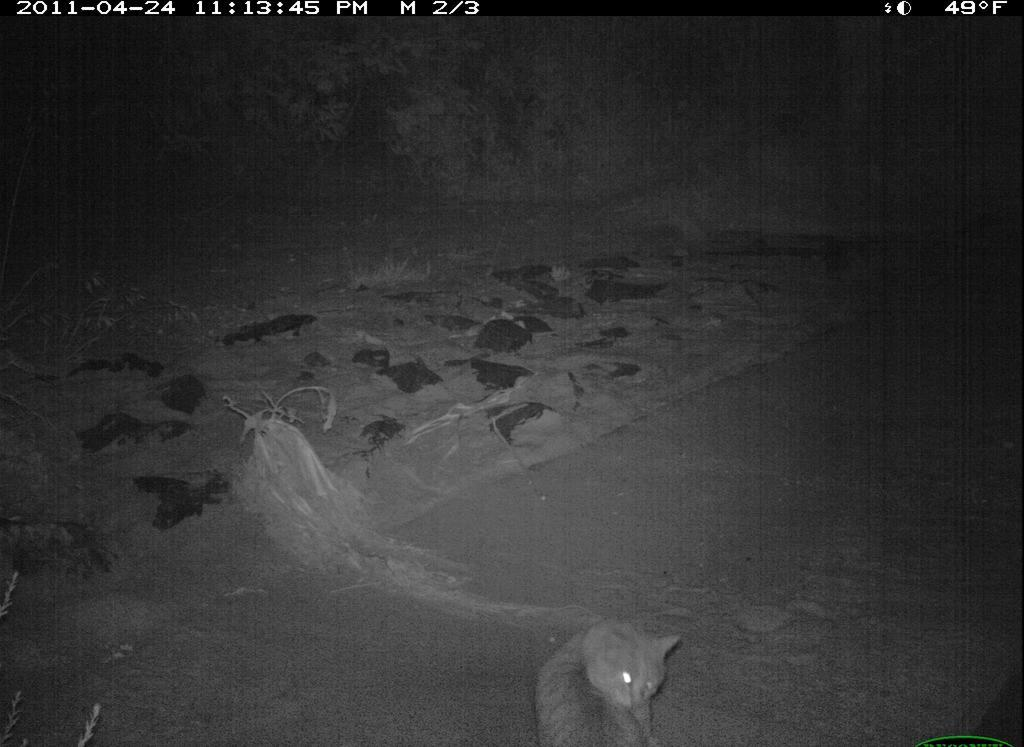cat: (538, 619, 683, 743)
